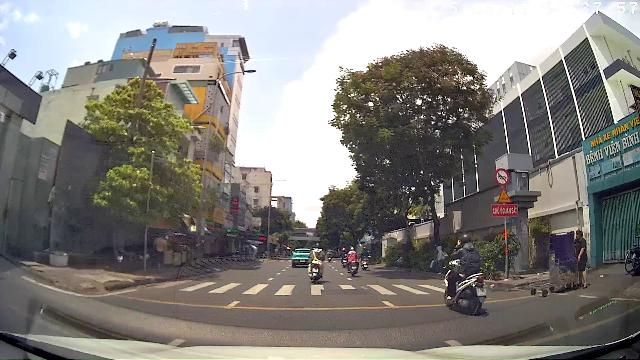128-cam-su-dung-coi: (494, 168, 510, 186)
